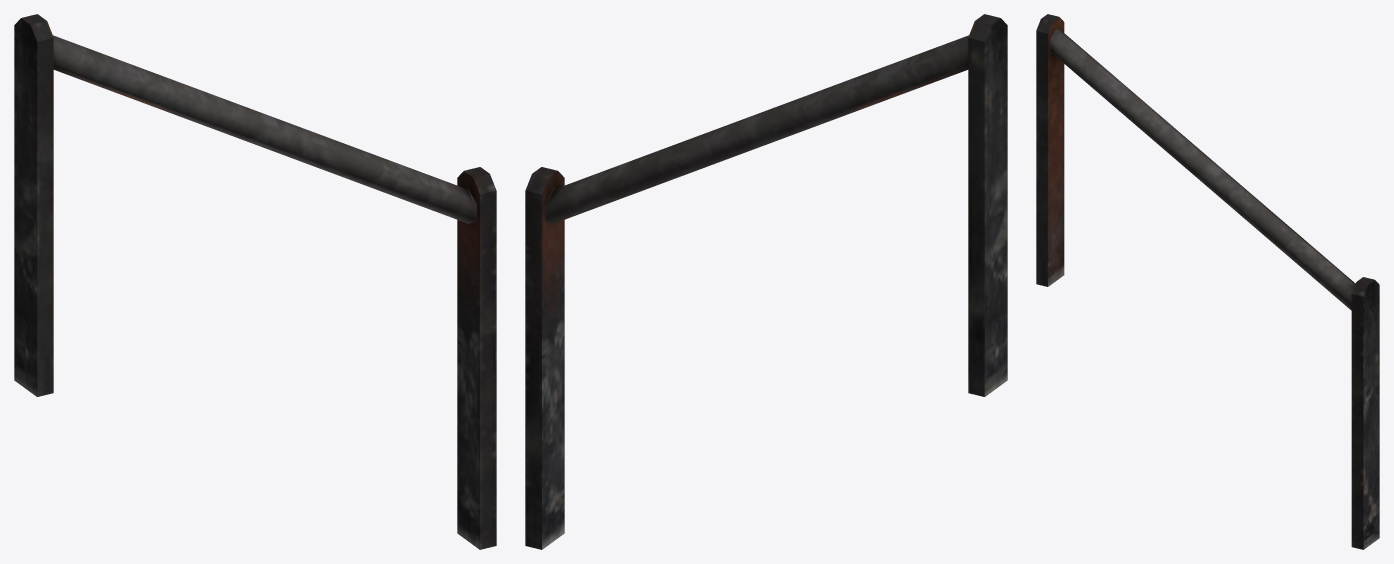
The model's file is StairSupport.FBX.
3 renders of one model, left to right at view 1: azimuth 30°, elevation 25°; view 2: azimuth 150°, elevation 25°; view 3: azimuth 330°, elevation 25°, orthographic. The views are drawn at different scales.
Visible parts, largest first — view 1: StairSupport; view 2: StairSupport; view 3: StairSupport.
Part boxes in pixels (box(x1,y1,x2,y2)): StairSupport: box(14, 14, 496, 549); StairSupport: box(525, 14, 1007, 549); StairSupport: box(1036, 14, 1379, 549).
Size of the model in its own units: 44.32 by 57.91 by 3.8.
